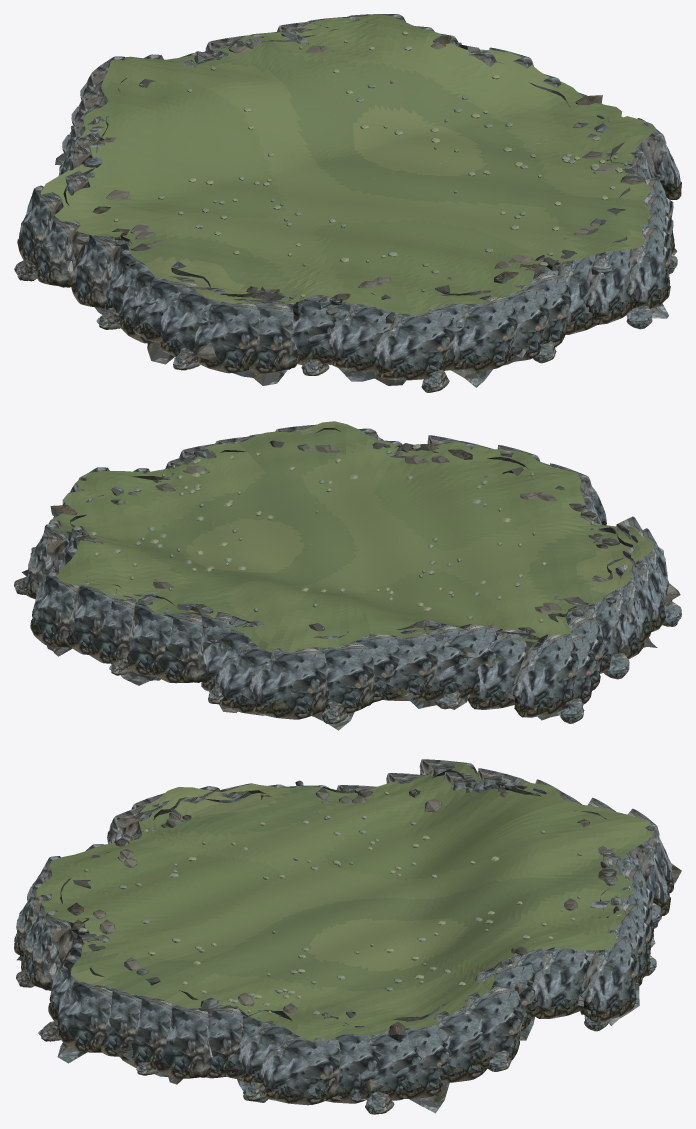
File: ValoriaEnvironmentCandidate.glb
3 renders of one model, top to bottom at view 1: azimuth 30°, elevation 25°; view 2: azimuth 150°, elevation 25°; view 3: azimuth 270°, elevation 25°, orthographic. The views are drawn at different scales.
Parts seen in each view (by area): view 1: Valoria Highlands - Blender sculpted environment, Buried continuous cliff contact receiver - existing geometry, CC0 directed cliff course 36, CC0 directed cliff course 38, CC0 directed cliff course 31, CC0 directed cliff course 35, CC0 directed cliff course 44, CC0 directed cliff course 43, CC0 directed cliff course 32, CC0 directed cliff course 24, CC0 directed cliff course 30, CC0 directed cliff course 25 (+12 smaller); view 2: Valoria Highlands - Blender sculpted environment, Buried continuous cliff contact receiver - existing geometry, CC0 directed cliff course 16, CC0 directed cliff course 23, CC0 directed cliff course 17, CC0 directed cliff course 22, CC0 directed cliff course 12, CC0 directed cliff course 08, CC0 directed cliff course 19, CC0 directed cliff course 21, CC0 directed cliff course 15, CC0 directed cliff course 11 (+16 smaller); view 3: Valoria Highlands - Blender sculpted environment, Buried continuous cliff contact receiver - existing geometry, CC0 directed cliff course 51, CC0 directed cliff course 08, CC0 directed cliff course 04, CC0 directed cliff course 44, CC0 directed cliff course 07, CC0 directed cliff course 47, CC0 directed cliff course 02, CC0 directed cliff course 03, CC0 directed cliff course 01, CC0 directed cliff course 40 (+18 smaller).
Boxes of the visible parts, <box> form: Valoria Highlands - Blender sculpted environment: <box>40,14,655,314</box>; Buried continuous cliff contact receiver - existing geometry: <box>37,22,677,387</box>; CC0 directed cliff course 36: <box>372,309,454,380</box>; CC0 directed cliff course 38: <box>452,295,517,370</box>; CC0 directed cliff course 31: <box>194,299,260,373</box>; CC0 directed cliff course 35: <box>327,303,391,372</box>; CC0 directed cliff course 44: <box>626,226,671,309</box>; CC0 directed cliff course 43: <box>583,249,634,324</box>; CC0 directed cliff course 32: <box>247,299,298,373</box>; CC0 directed cliff course 24: <box>35,217,84,287</box>; CC0 directed cliff course 30: <box>159,287,228,357</box>; CC0 directed cliff course 25: <box>71,234,121,308</box>; Valoria Highlands - Blender sculpted environment: <box>49,421,654,652</box>; Buried continuous cliff contact receiver - existing geometry: <box>22,428,680,730</box>; CC0 directed cliff course 16: <box>248,647,329,719</box>; CC0 directed cliff course 23: <box>511,634,578,717</box>; CC0 directed cliff course 17: <box>317,641,376,713</box>; CC0 directed cliff course 22: <box>467,629,526,709</box>; CC0 directed cliff course 12: <box>154,608,206,683</box>; CC0 directed cliff course 08: <box>30,571,80,647</box>; CC0 directed cliff course 19: <box>382,630,437,700</box>; CC0 directed cliff course 21: <box>436,624,497,699</box>; CC0 directed cliff course 15: <box>216,643,271,715</box>; CC0 directed cliff course 11: <box>126,603,173,675</box>; Valoria Highlands - Blender sculpted environment: <box>36,762,653,1041</box>; Buried continuous cliff contact receiver - existing geometry: <box>17,769,681,1113</box>; CC0 directed cliff course 51: <box>259,1033,342,1105</box>; CC0 directed cliff course 08: <box>580,936,638,1022</box>; CC0 directed cliff course 04: <box>462,986,523,1067</box>; CC0 directed cliff course 44: <box>56,979,112,1052</box>; CC0 directed cliff course 07: <box>531,944,589,1018</box>; CC0 directed cliff course 47: <box>154,1004,213,1078</box>; CC0 directed cliff course 02: <box>395,1024,450,1098</box>; CC0 directed cliff course 03: <box>434,1008,487,1082</box>; CC0 directed cliff course 01: <box>358,1031,421,1100</box>; CC0 directed cliff course 40: <box>27,910,74,990</box>.
Size of the model in its own units: 91.15 by 17.49 by 88.51.
Materials: 13 (6 with a texture image).
